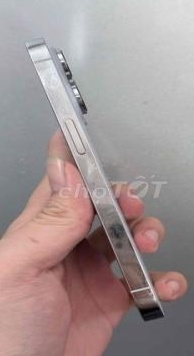scratch: (94, 195, 135, 244), (124, 265, 166, 307)
